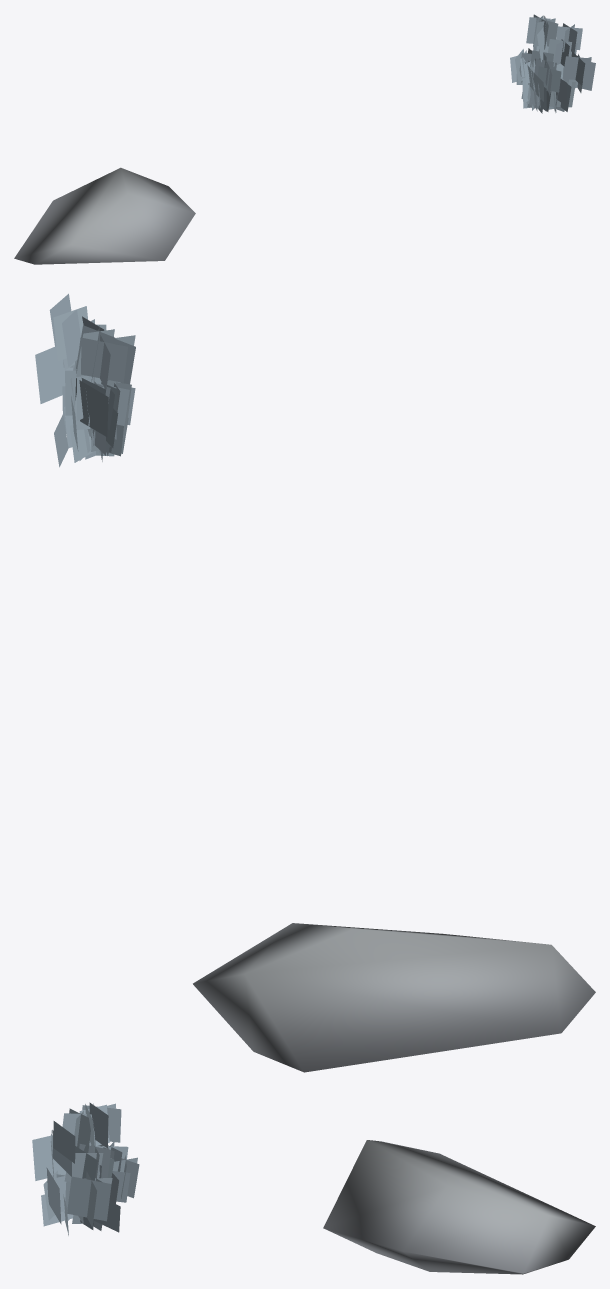
File: frost_land_scatter_c11_11.glb
The picture shows the model from 3 angles, top to bottom: view 1: azimuth 30°, elevation 25°; view 2: azimuth 150°, elevation 25°; view 3: azimuth 270°, elevation 25°; orthographic projection. The views are drawn at different scales.
Visible parts, largest first — view 1: frost_land_scatter_c11_11; view 2: frost_land_scatter_c11_11; view 3: frost_land_scatter_c11_11.
Boxes of the visible parts, left/top/right/bottom form: frost_land_scatter_c11_11: left=14, top=14, right=595, bottom=264; frost_land_scatter_c11_11: left=35, top=293, right=595, bottom=1072; frost_land_scatter_c11_11: left=32, top=1102, right=595, bottom=1274.
Size of the model in its own units: 8.98 by 4.8 by 7.2.
